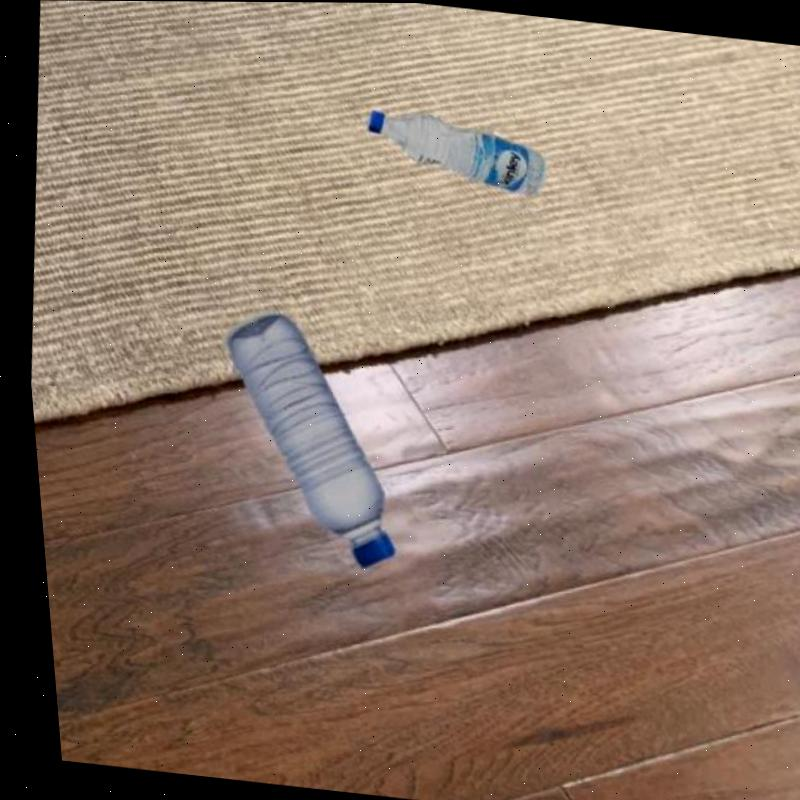botella: (189, 305, 409, 579), (356, 106, 548, 199)
